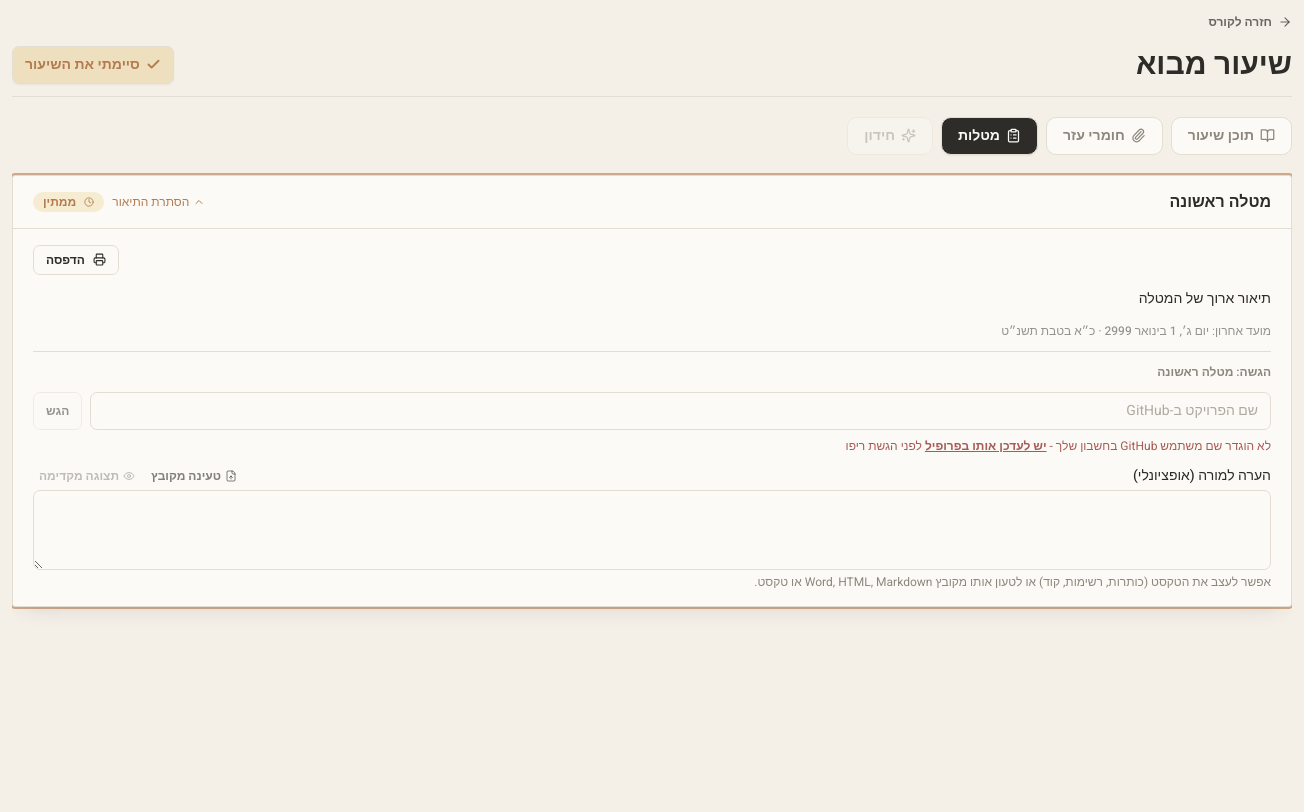
Test case: one assignment, linked and collapsed › opens the assignments tab marked at the linked assignment, its brief hideable
Expected: the text "תיאור ארוך של המטלה" is shown, [1139,288,1271,309]
Expected: the text "הגשה: מטלה ראשונה" is shown, [1157,363,1271,381]
Click the button "הסתרת התיאור".
click(159, 202)  # box [112,194,205,210]
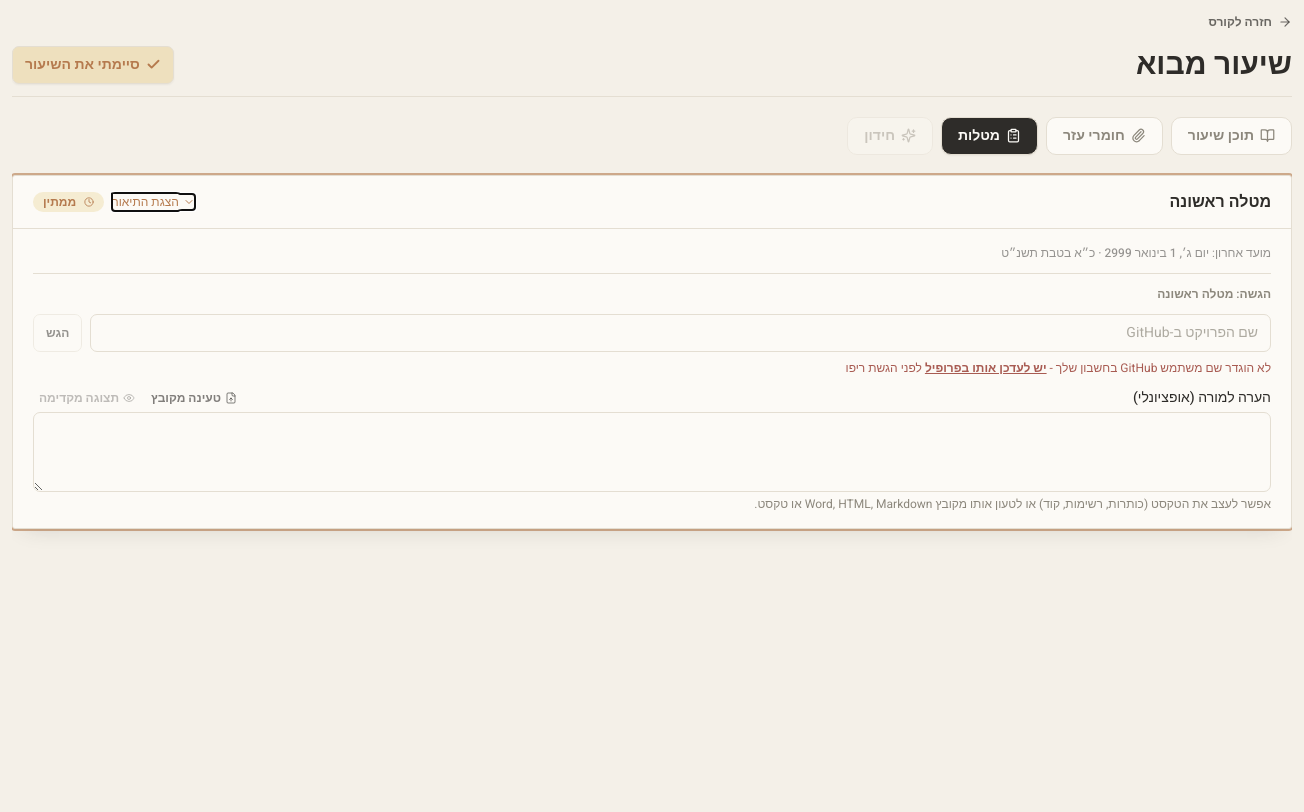
Expected: the text "הגשה: מטלה ראשונה" is shown, [1157,285,1271,303]
Expected: the text "תיאור ארוך של המטלה" is gone
Click the button "הצגת התיאור".
click(154, 202)  # box [112,194,195,210]
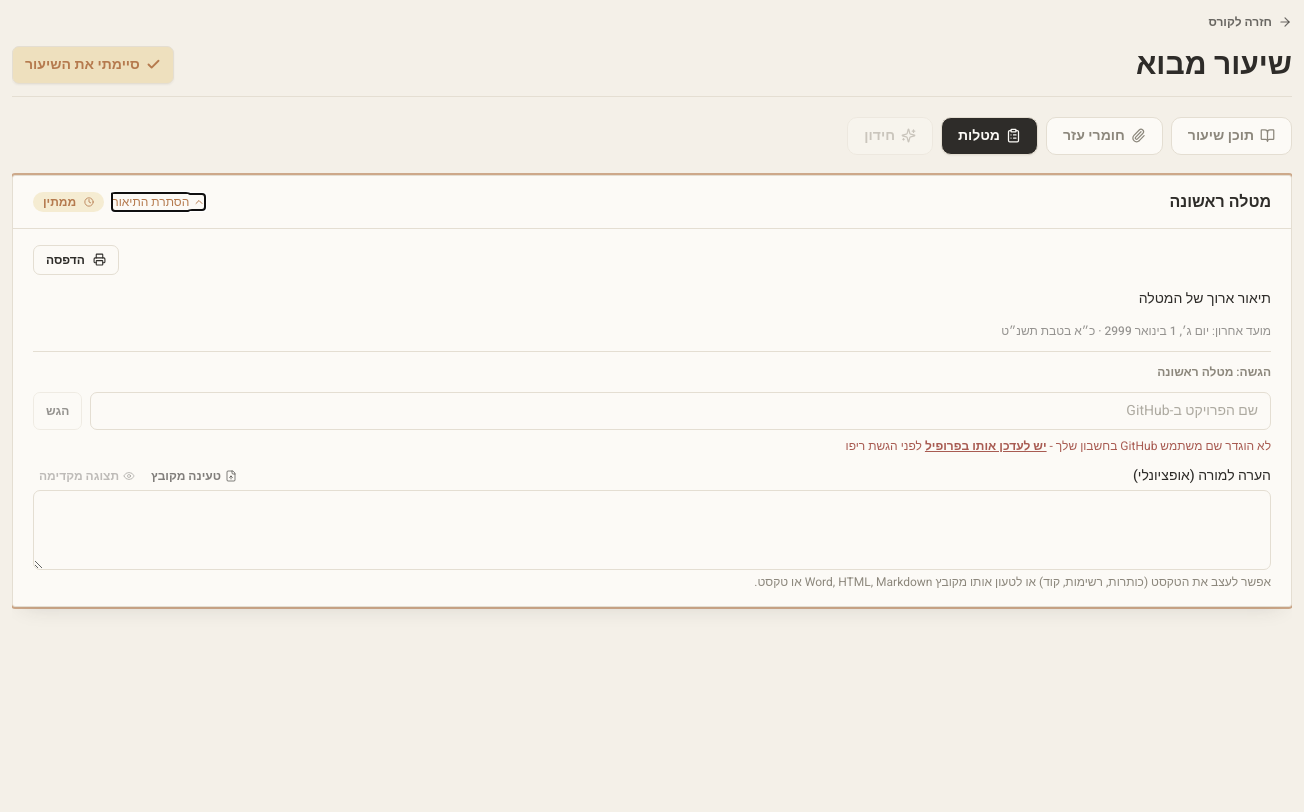
Expected: the text "תיאור ארוך של המטלה" is shown, [1139,288,1271,309]
